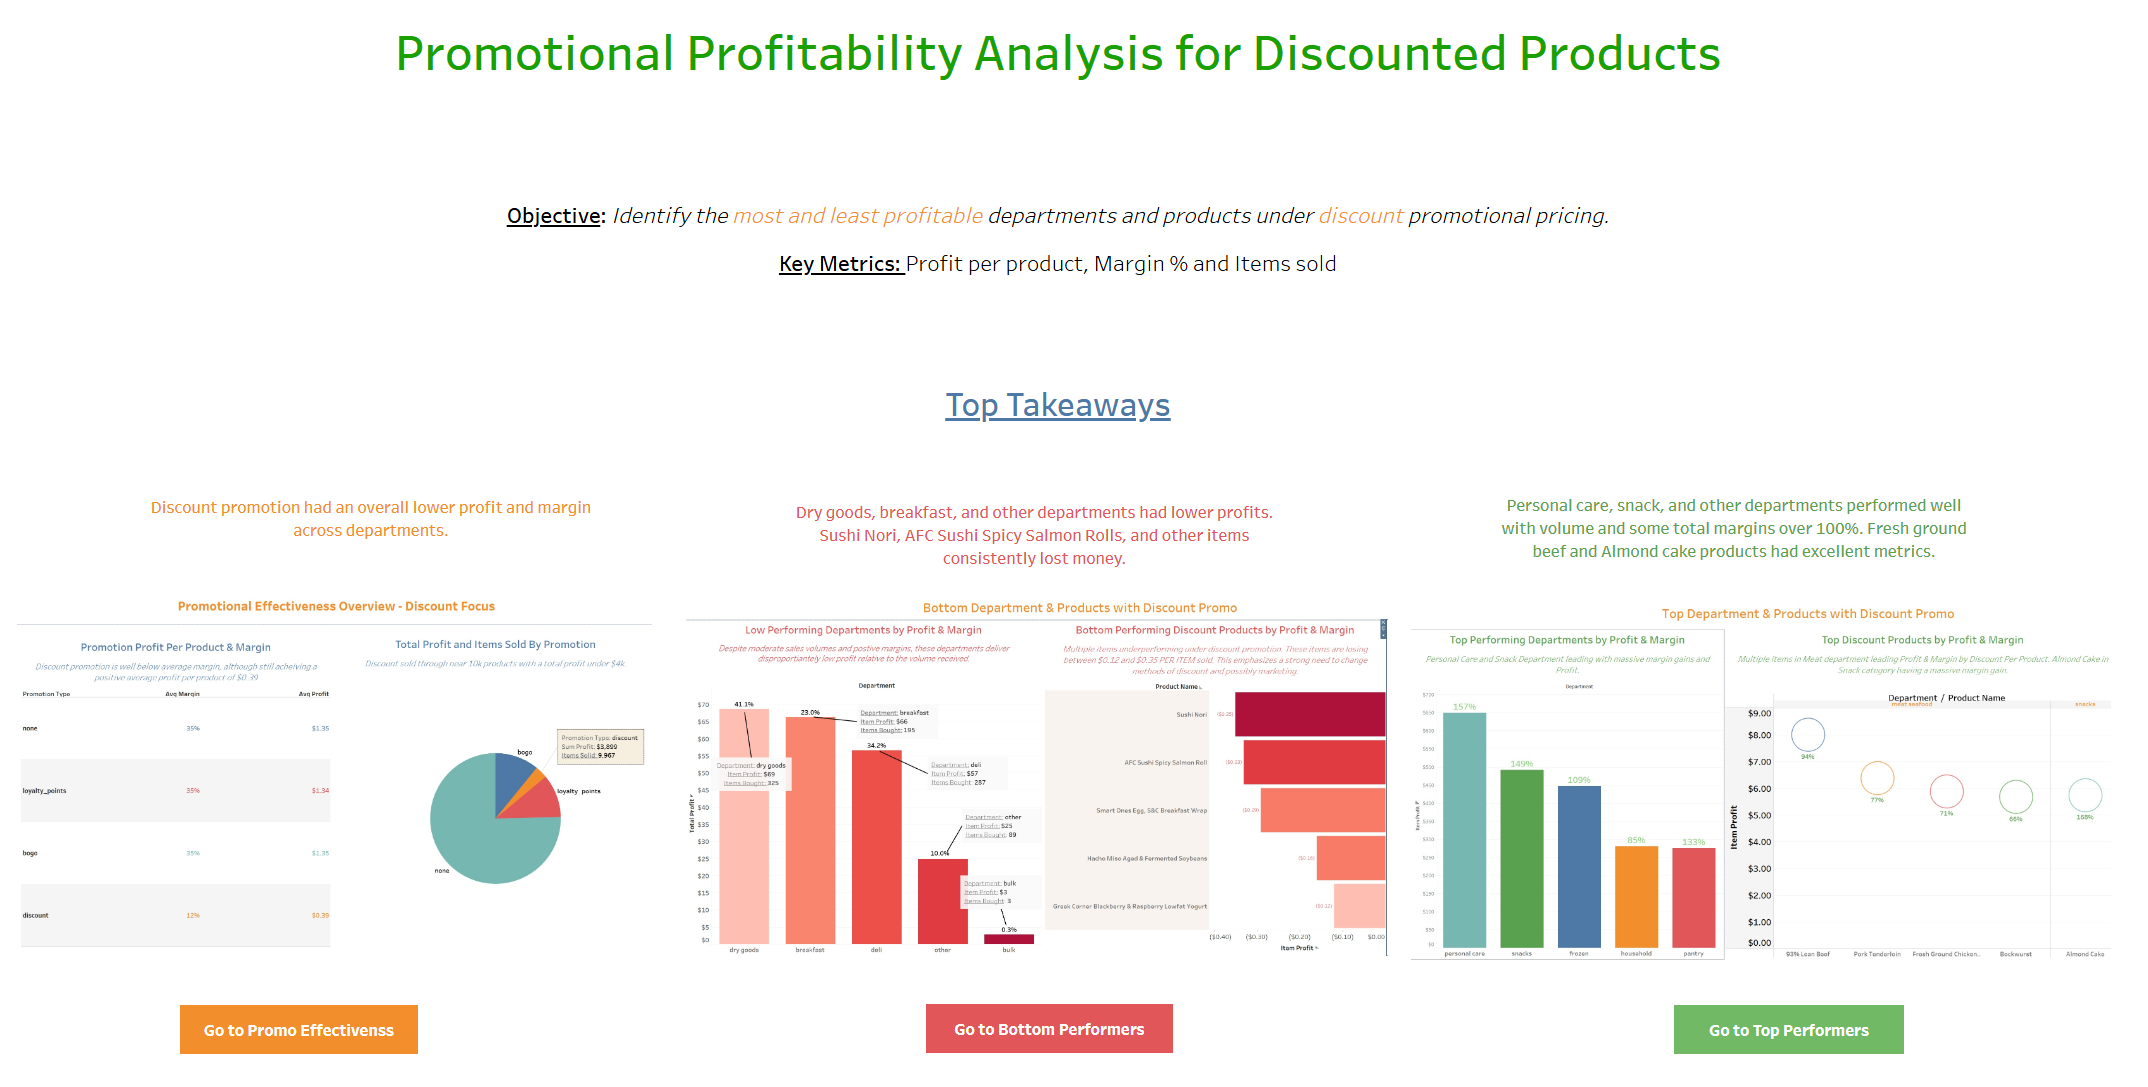

The dashboard page shown, as its layout file describes it:
{"tool":"tableau","page":{"name":"Promo Summary","canvas":[1000,1000],"units":"permille","ordinal":2},"visuals":[{"type":"text","box":[3.2,6.9,993.7,88.7]},{"type":"text","box":[3.2,95.6,993.7,237.7]},{"type":"text","box":[3.2,333.3,993.7,54.3]},{"type":"text","box":[57,392.8,233.3,171.4]},{"type":"text","box":[704.4,400.5,233.3,171.4]},{"type":"text","box":[372.2,407.4,233.3,171.4]},{"type":"image","param":"C:/Users/tatej/Documents/projects/InstaCart_effectiveness/highlights/tab_screens","box":[5.7,540.9,301.7,333.3]},{"type":"image","param":"C:/Users/tatej/Documents/projects/InstaCart_effectiveness/highlights/tab_screens","box":[667.8,547.8,333,332.5]},{"type":"image","param":"C:/Users/tatej/Documents/projects/InstaCart_effectiveness/highlights/tab_screens","box":[323.5,549.5,333,333.3]},{"type":"dashboard-object","box":[437.5,919,117.1,44.8]},{"type":"dashboard-object","box":[83.2,919.9,113.2,44.8]},{"type":"dashboard-object","box":[792.3,919.9,109.3,44.8]}]}

Visuals, with their boxes on the dashboard's canvas, which has no fixed pixel size, in thousandths of its width and height (x1, y1, x2, y2). These are canvas units, not pixel positions in the 2148x1087 screenshot, which may show the page scaled, cropped or inside an application window:
text: {"left": 3, "top": 7, "right": 997, "bottom": 96}
text: {"left": 3, "top": 96, "right": 997, "bottom": 333}
text: {"left": 3, "top": 333, "right": 997, "bottom": 388}
text: {"left": 57, "top": 393, "right": 290, "bottom": 564}
text: {"left": 704, "top": 400, "right": 938, "bottom": 572}
text: {"left": 372, "top": 407, "right": 606, "bottom": 579}
image: {"left": 6, "top": 541, "right": 307, "bottom": 874}
image: {"left": 668, "top": 548, "right": 1001, "bottom": 880}
image: {"left": 324, "top": 550, "right": 656, "bottom": 883}
dashboard-object: {"left": 438, "top": 919, "right": 555, "bottom": 964}
dashboard-object: {"left": 83, "top": 920, "right": 196, "bottom": 965}
dashboard-object: {"left": 792, "top": 920, "right": 902, "bottom": 965}
